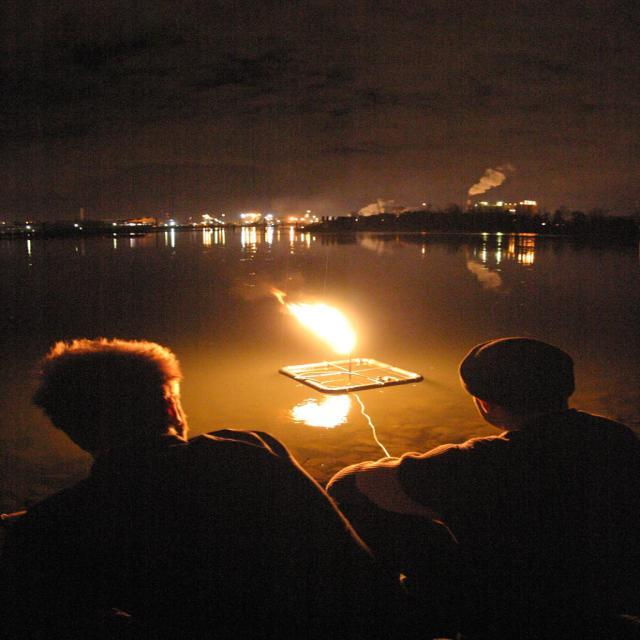Fire: (297, 294, 375, 356)
